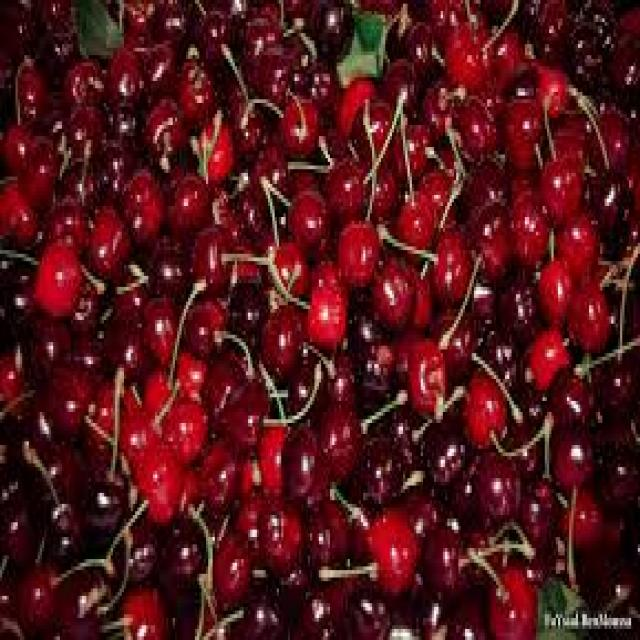organic waste: (0, 0, 638, 636), (580, 541, 638, 636), (159, 519, 206, 614), (100, 287, 146, 382), (281, 419, 328, 508), (366, 508, 414, 592), (540, 552, 587, 636), (80, 198, 128, 280), (470, 445, 518, 526), (34, 372, 98, 431), (122, 169, 168, 250), (217, 372, 268, 445), (29, 242, 82, 312), (257, 493, 301, 577), (58, 566, 110, 636), (485, 566, 536, 636), (467, 198, 512, 276), (314, 405, 361, 478), (525, 324, 573, 394), (505, 85, 545, 169), (0, 405, 40, 489), (334, 213, 379, 287), (520, 448, 556, 540), (308, 257, 345, 346), (91, 452, 128, 541), (303, 496, 350, 566), (250, 136, 292, 213), (202, 346, 244, 423), (144, 232, 190, 302), (388, 188, 436, 254), (261, 305, 306, 375), (181, 290, 226, 360), (390, 11, 434, 81), (18, 566, 62, 636), (463, 372, 503, 448), (193, 0, 239, 66), (419, 526, 465, 592), (452, 92, 507, 147), (365, 254, 410, 320), (22, 316, 69, 379), (565, 4, 602, 84), (160, 394, 202, 464), (144, 92, 182, 169), (427, 217, 465, 294), (137, 449, 175, 526), (0, 493, 40, 566), (166, 170, 210, 236), (274, 103, 326, 158), (34, 438, 86, 493), (213, 526, 248, 607), (7, 59, 55, 118), (403, 342, 441, 416), (73, 0, 124, 55), (239, 4, 279, 74), (445, 26, 490, 88), (264, 232, 306, 298), (350, 338, 392, 404), (120, 518, 162, 584), (51, 100, 102, 154), (458, 151, 512, 202), (303, 578, 350, 636), (512, 188, 549, 261), (186, 220, 224, 290), (257, 40, 299, 103), (494, 272, 536, 335), (421, 147, 458, 217), (51, 489, 84, 566), (549, 364, 589, 427), (591, 100, 629, 166), (5, 258, 38, 334), (572, 276, 612, 338), (542, 151, 582, 213), (0, 173, 35, 243), (392, 408, 427, 478), (144, 298, 179, 368), (122, 585, 170, 636), (558, 214, 600, 272), (560, 490, 605, 544), (598, 448, 638, 508), (175, 55, 213, 118), (2, 338, 38, 404), (465, 291, 503, 353), (434, 302, 472, 364), (445, 588, 494, 636), (40, 195, 82, 250), (290, 180, 323, 250), (235, 170, 270, 236), (226, 232, 263, 294), (93, 132, 131, 192), (131, 37, 175, 88), (15, 144, 56, 198), (598, 353, 635, 412), (226, 287, 263, 346), (337, 74, 372, 136), (536, 254, 567, 324), (361, 438, 403, 489), (246, 585, 288, 636), (547, 110, 591, 158), (364, 154, 396, 220), (390, 114, 423, 177), (556, 430, 593, 486), (348, 290, 385, 346), (607, 26, 638, 92), (381, 59, 418, 114), (346, 588, 388, 636), (191, 122, 228, 176), (108, 48, 142, 106), (113, 397, 146, 456), (62, 66, 109, 107), (60, 158, 100, 206), (202, 452, 234, 512), (212, 180, 242, 243), (316, 0, 348, 59), (306, 62, 338, 121), (354, 99, 390, 151), (488, 26, 520, 84), (71, 328, 102, 387), (408, 265, 434, 335), (317, 346, 350, 401), (352, 0, 385, 55), (330, 151, 359, 213), (493, 338, 522, 398), (536, 0, 562, 66), (536, 66, 571, 114), (507, 405, 549, 445), (447, 460, 472, 526), (276, 375, 316, 416), (421, 77, 447, 140), (150, 0, 190, 40), (106, 92, 142, 136), (0, 0, 31, 51), (589, 170, 625, 213), (616, 132, 638, 202), (44, 18, 73, 70), (237, 114, 266, 166), (108, 0, 153, 33), (405, 485, 441, 526), (142, 371, 170, 423), (348, 490, 370, 556), (426, 430, 458, 474), (0, 114, 31, 158), (281, 0, 317, 37), (259, 434, 284, 486), (220, 70, 252, 110), (580, 0, 614, 37), (418, 0, 458, 29), (389, 596, 418, 636), (465, 0, 500, 29), (235, 452, 250, 515), (175, 356, 199, 394), (505, 0, 536, 29), (31, 0, 57, 29), (618, 0, 638, 26), (624, 214, 638, 246)
